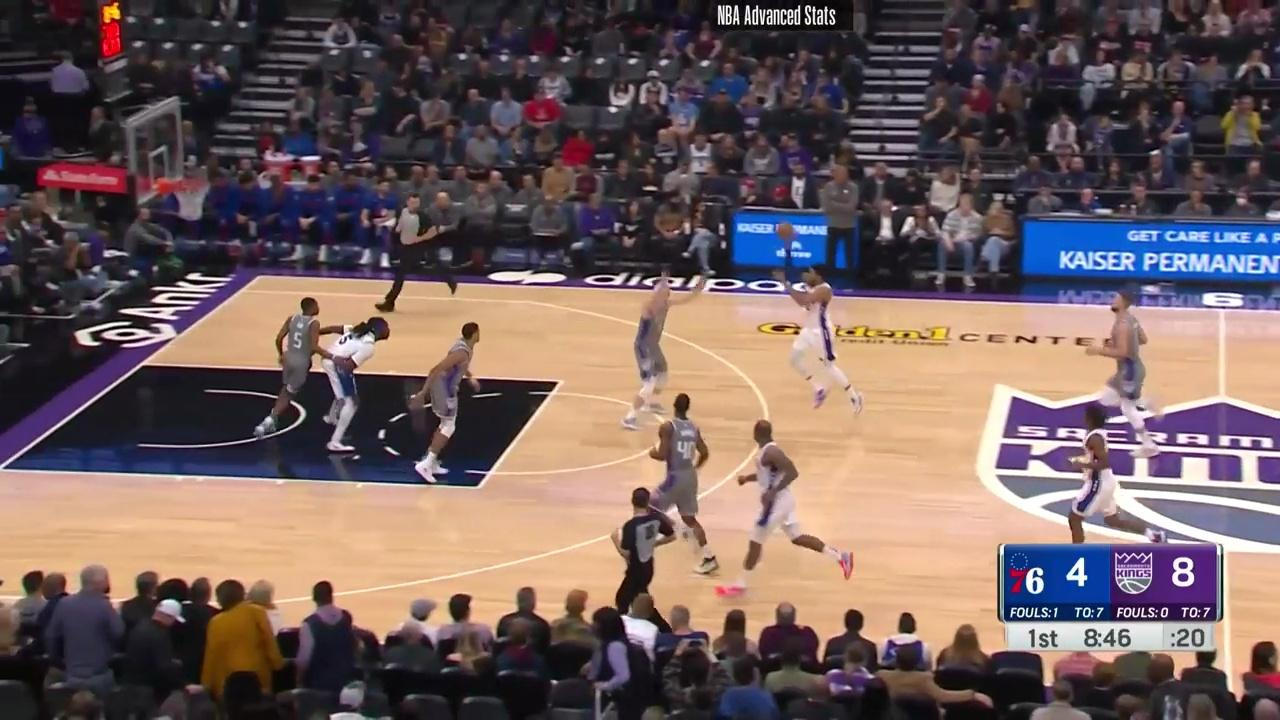Backboard: (128, 94, 188, 212)
Ball: (776, 222, 794, 241)
Basket: (167, 173, 209, 219)
Person: (723, 418, 855, 595), (770, 260, 860, 417), (1064, 412, 1156, 548), (649, 391, 714, 566), (1089, 282, 1160, 442), (264, 293, 336, 443), (415, 318, 484, 470), (319, 316, 389, 453), (621, 270, 680, 428)
Referee: (607, 487, 684, 619), (379, 193, 464, 309)
Shot Clock: (89, 4, 137, 98)
